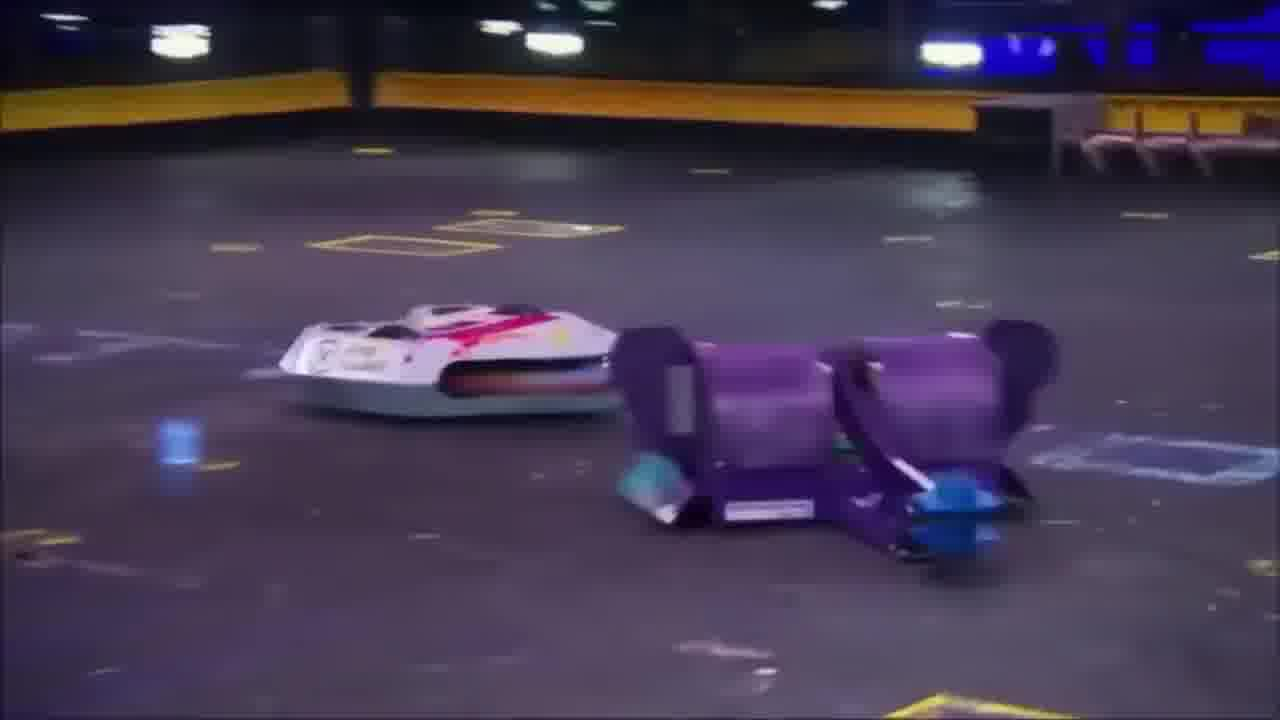combatbot: (611, 320, 1062, 532), (274, 296, 613, 429)
